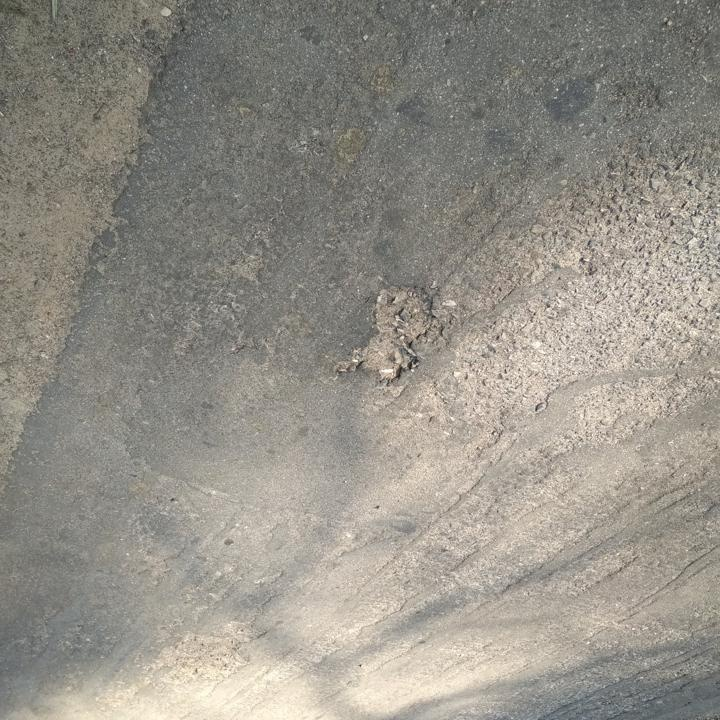pothole: (329, 283, 441, 389), (153, 614, 271, 685)
